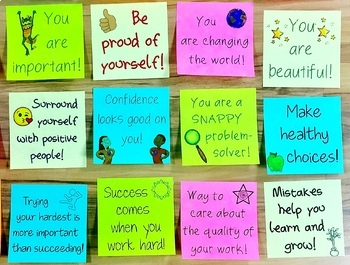stickynote: (178, 175, 265, 261), (3, 179, 90, 264), (89, 85, 174, 169), (7, 89, 91, 172), (261, 178, 345, 261), (95, 175, 177, 260), (3, 3, 90, 83), (178, 87, 260, 170), (263, 93, 344, 177), (262, 7, 342, 92), (174, 1, 257, 82), (88, 2, 173, 81)
